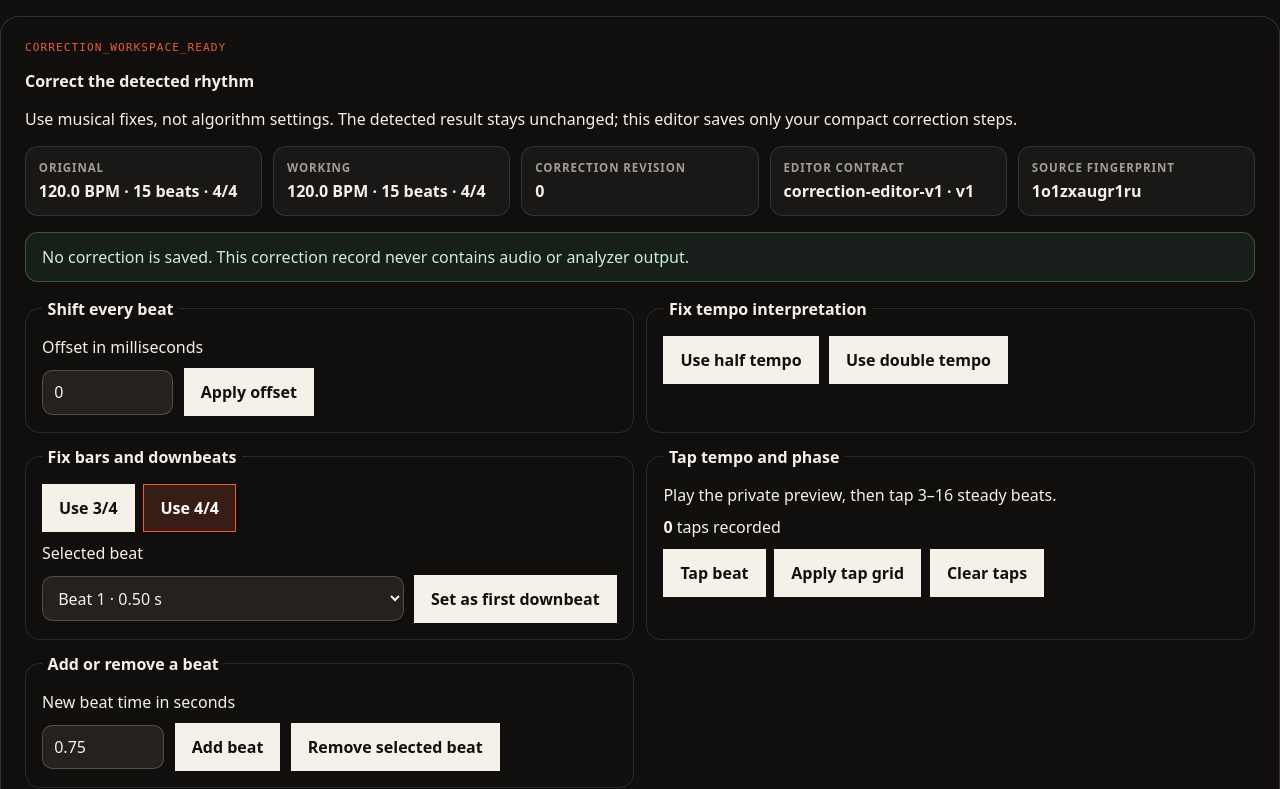
Test: rhythm correction workspace › retains recorded taps when their implied tempo is rejected
Step 1. Click the button "Tap beat" → coordinates (714, 573), box [663,549,766,597]
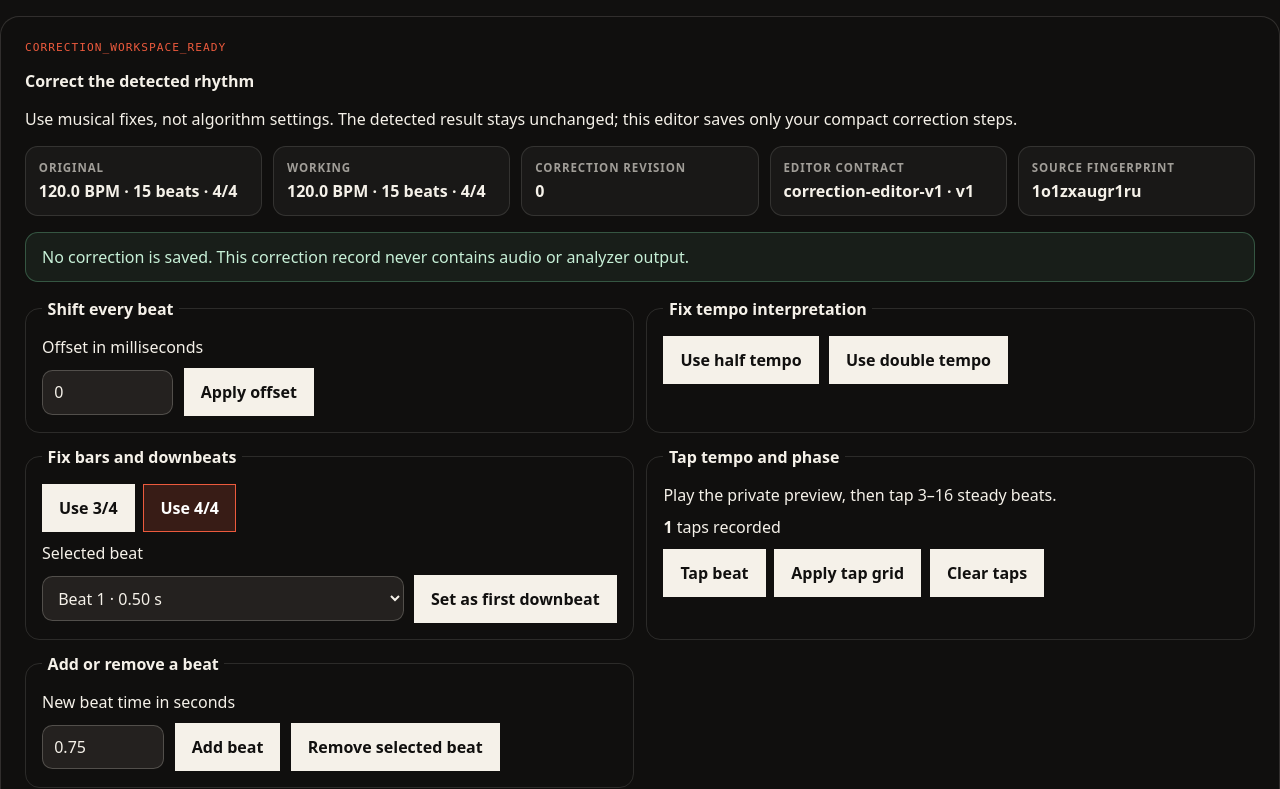
Step 2. Click the button "Tap beat" → coordinates (714, 573), box [663,549,766,597]
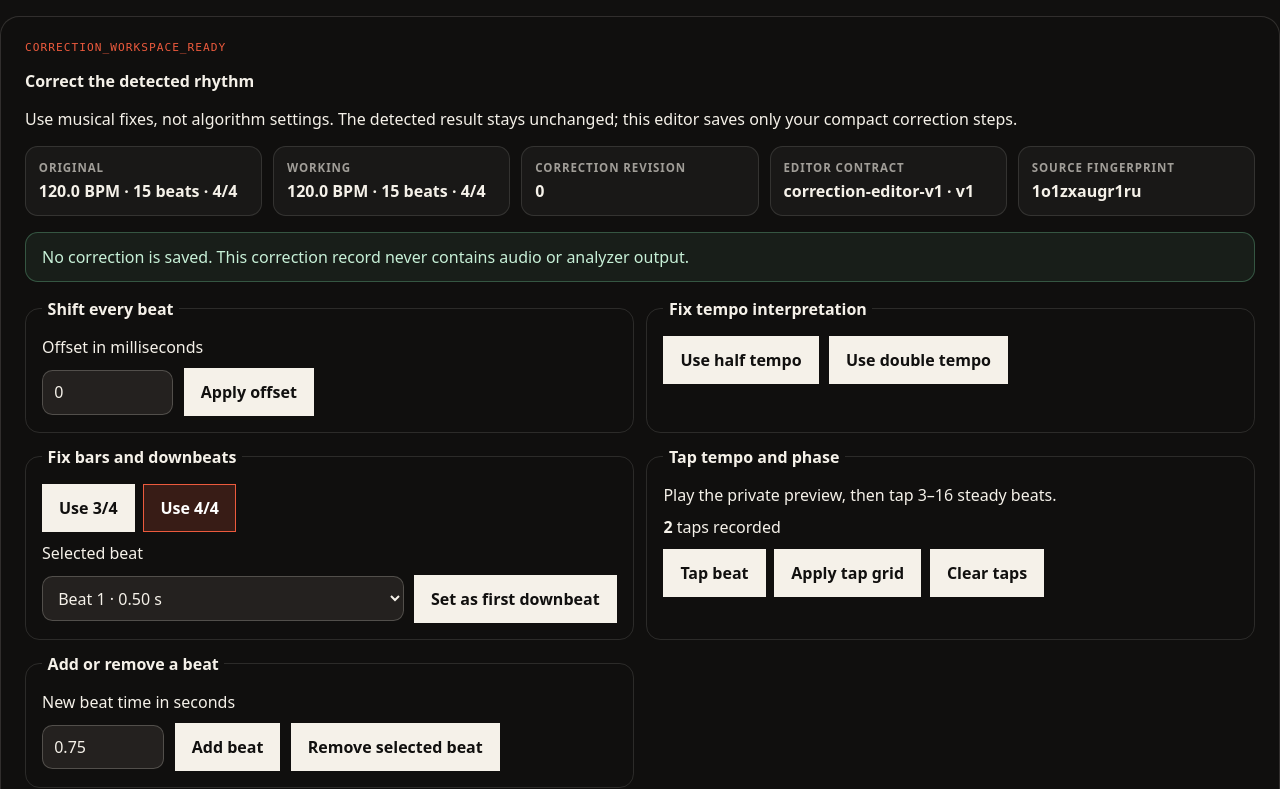
Step 3. Click the button "Tap beat" → coordinates (714, 573), box [663,549,766,597]
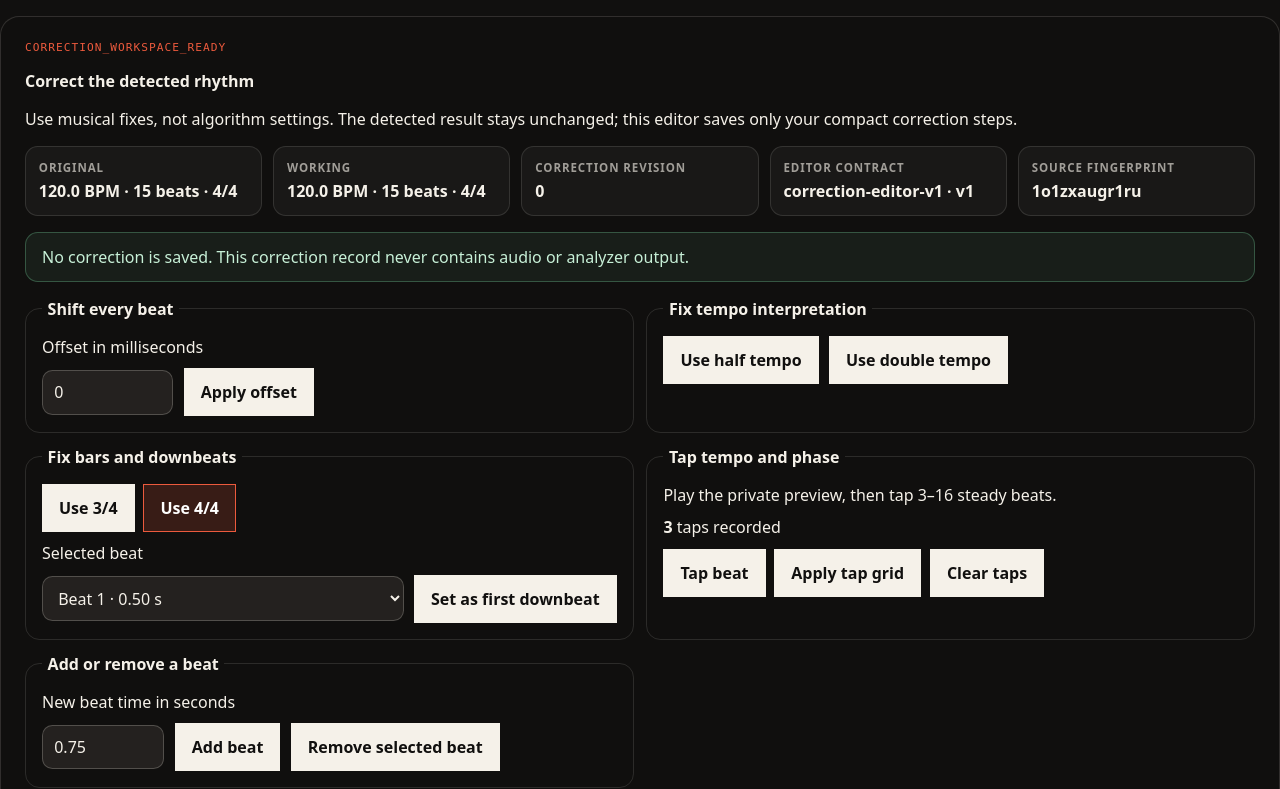
Step 4. Click the button "Apply tap grid" → coordinates (848, 573), box [774,549,921,597]
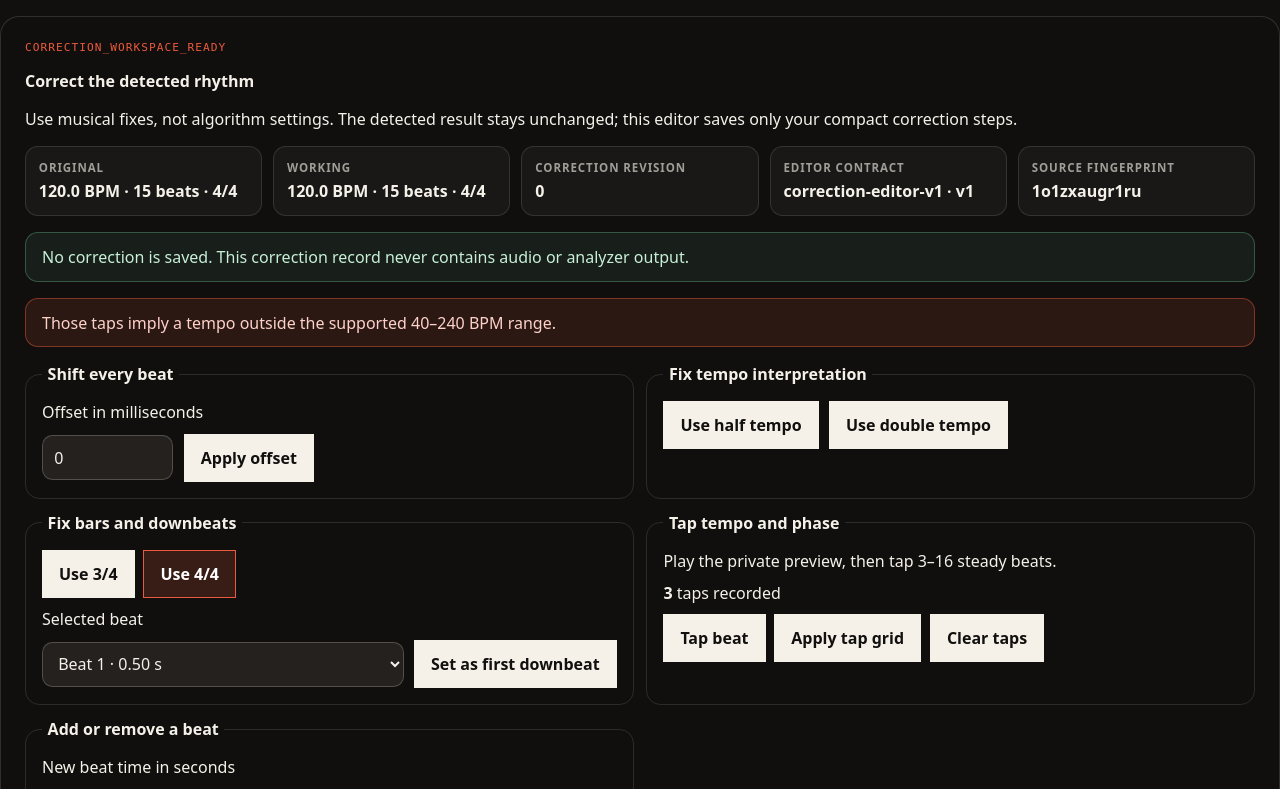
Now the element showing "3 taps recorded" is shown, box [663,582,781,604]
Now the message "Those taps imply a tempo outside the supported 40–240 BPM range." is shown, box [25,298,1255,347]
